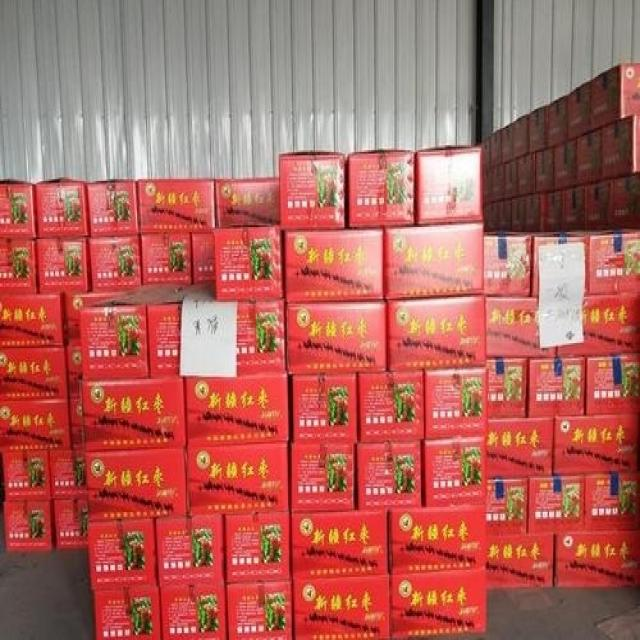box: (147, 287, 287, 379), (81, 288, 178, 382), (182, 374, 291, 449), (383, 220, 485, 300), (183, 442, 291, 517), (82, 374, 187, 451), (385, 294, 488, 372), (283, 300, 388, 375), (83, 449, 189, 519), (283, 227, 384, 300), (385, 502, 488, 573), (388, 567, 488, 640), (291, 507, 388, 582), (291, 573, 390, 640), (342, 148, 416, 230), (415, 143, 481, 225), (556, 294, 640, 358), (554, 529, 640, 591), (553, 413, 640, 474), (280, 150, 344, 232), (215, 225, 285, 299), (223, 512, 293, 585), (355, 370, 425, 442), (87, 517, 157, 589), (288, 372, 358, 442), (355, 439, 425, 509), (155, 515, 224, 585), (484, 295, 558, 360), (572, 229, 640, 299), (288, 442, 358, 510), (421, 369, 488, 439), (421, 435, 488, 503), (136, 179, 215, 236), (484, 531, 557, 592), (485, 416, 554, 480), (225, 580, 292, 640), (91, 584, 161, 640), (530, 232, 586, 299), (0, 346, 68, 401), (159, 585, 227, 640), (0, 292, 68, 346), (32, 176, 90, 239), (0, 399, 70, 451), (61, 292, 129, 345), (580, 471, 640, 531), (527, 357, 586, 418), (214, 179, 283, 229), (526, 474, 585, 532), (585, 353, 640, 415), (483, 230, 532, 297), (591, 63, 640, 128), (87, 177, 140, 237), (35, 237, 90, 294), (140, 232, 193, 290), (88, 236, 141, 290), (0, 500, 56, 551), (485, 360, 530, 418), (485, 476, 529, 534), (603, 111, 640, 179), (0, 451, 51, 500), (0, 177, 36, 239), (49, 449, 91, 500), (51, 500, 91, 550), (0, 239, 37, 292), (581, 176, 613, 234), (571, 130, 605, 184), (611, 171, 640, 230), (567, 80, 591, 140), (191, 232, 216, 288), (547, 97, 570, 148), (561, 186, 585, 234), (553, 140, 576, 188), (539, 188, 563, 234), (515, 152, 539, 198), (65, 346, 83, 401), (536, 145, 556, 191), (529, 106, 548, 152), (67, 401, 84, 449), (513, 113, 530, 159), (493, 196, 513, 234), (524, 193, 541, 234), (499, 123, 515, 162), (481, 201, 499, 234), (512, 195, 527, 234), (504, 159, 518, 198), (490, 128, 504, 167), (492, 164, 507, 200), (479, 135, 493, 172), (480, 167, 494, 203)
